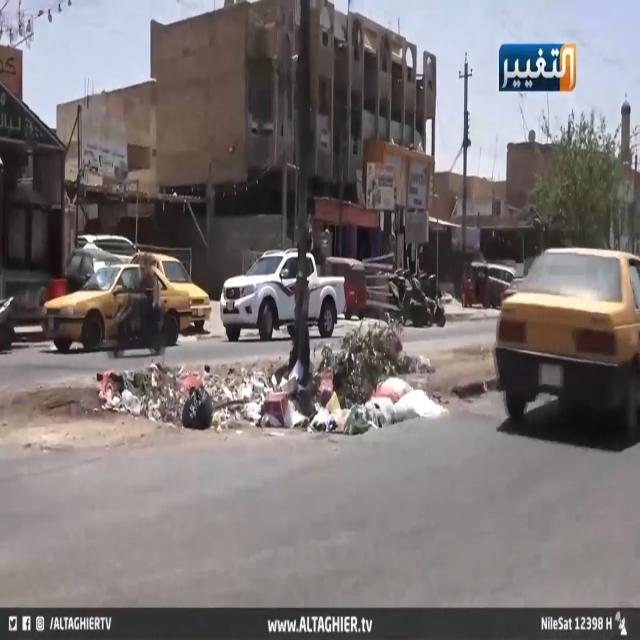high trash: (99, 322, 446, 434)
